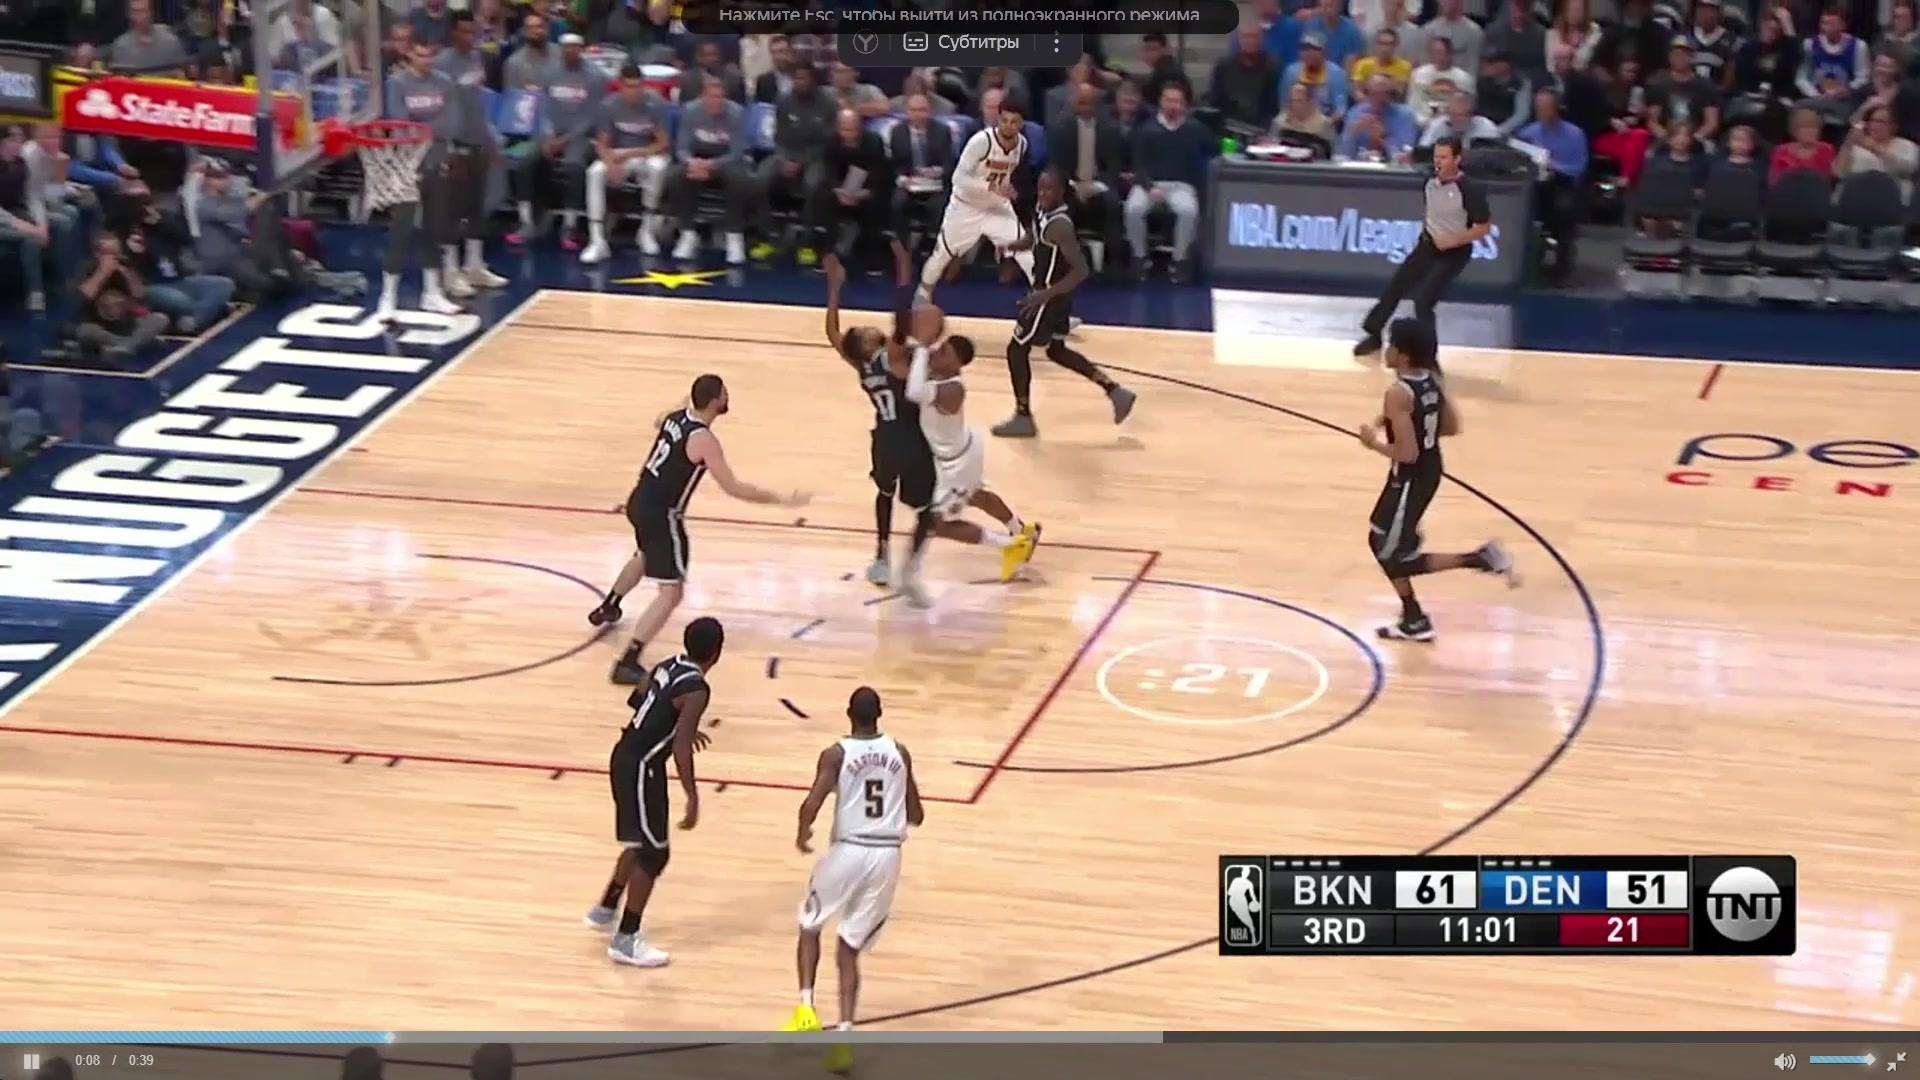foul: (793, 261, 1096, 591)
